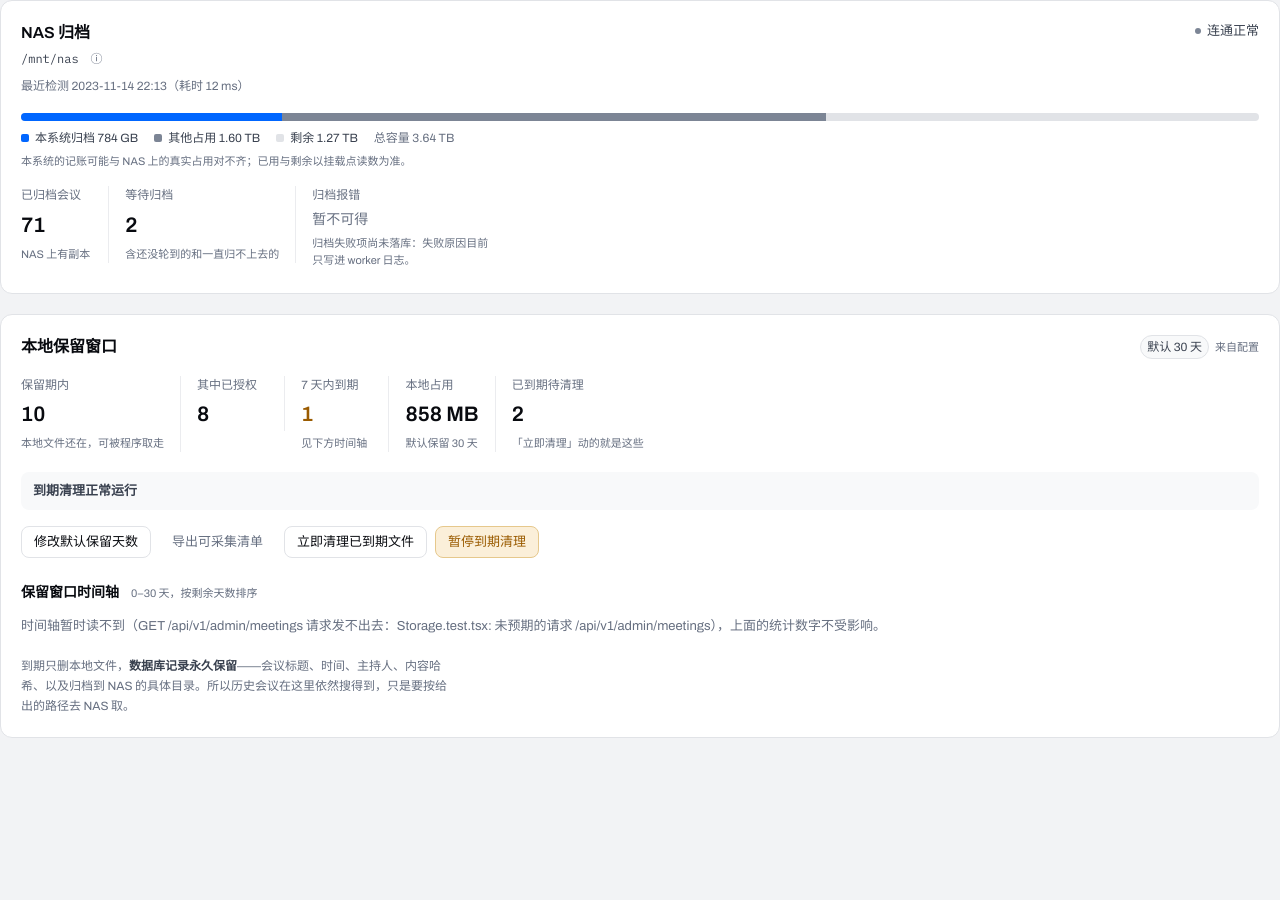
Test: NAS 归档 › 挂载点是本地路径时不猜协议，而且"不知道"不占主文案的位置
Expected: the heading "NAS 归档" is shown, [21,24,90,41]
Click the button "ⓘ": (97, 59) [91,53,103,65]
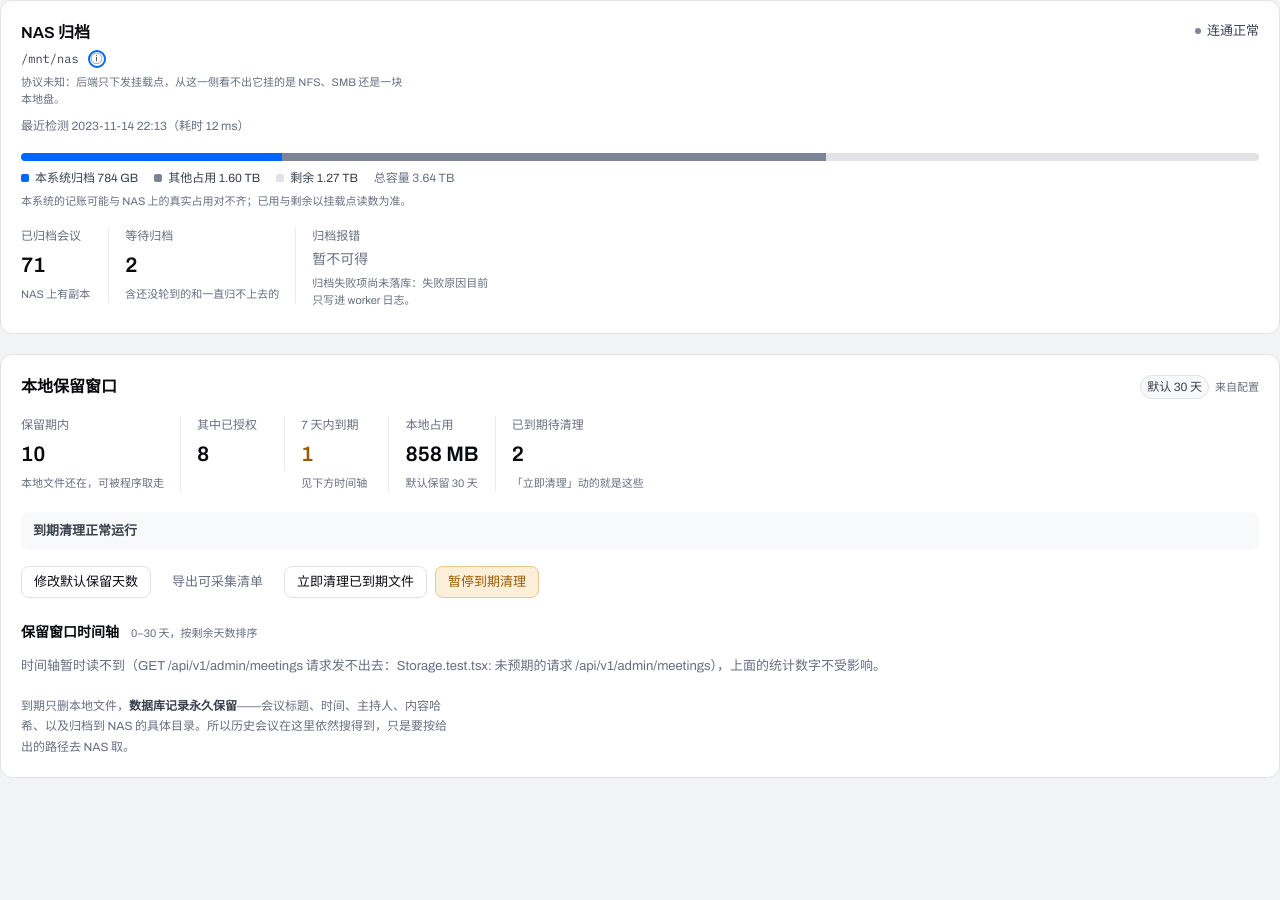
Now the text "协议未知：后端只下发挂载点，从这一侧看不出它挂的是 NFS、SMB 还是一块本地盘。" is shown, box [21,74,412,108]
